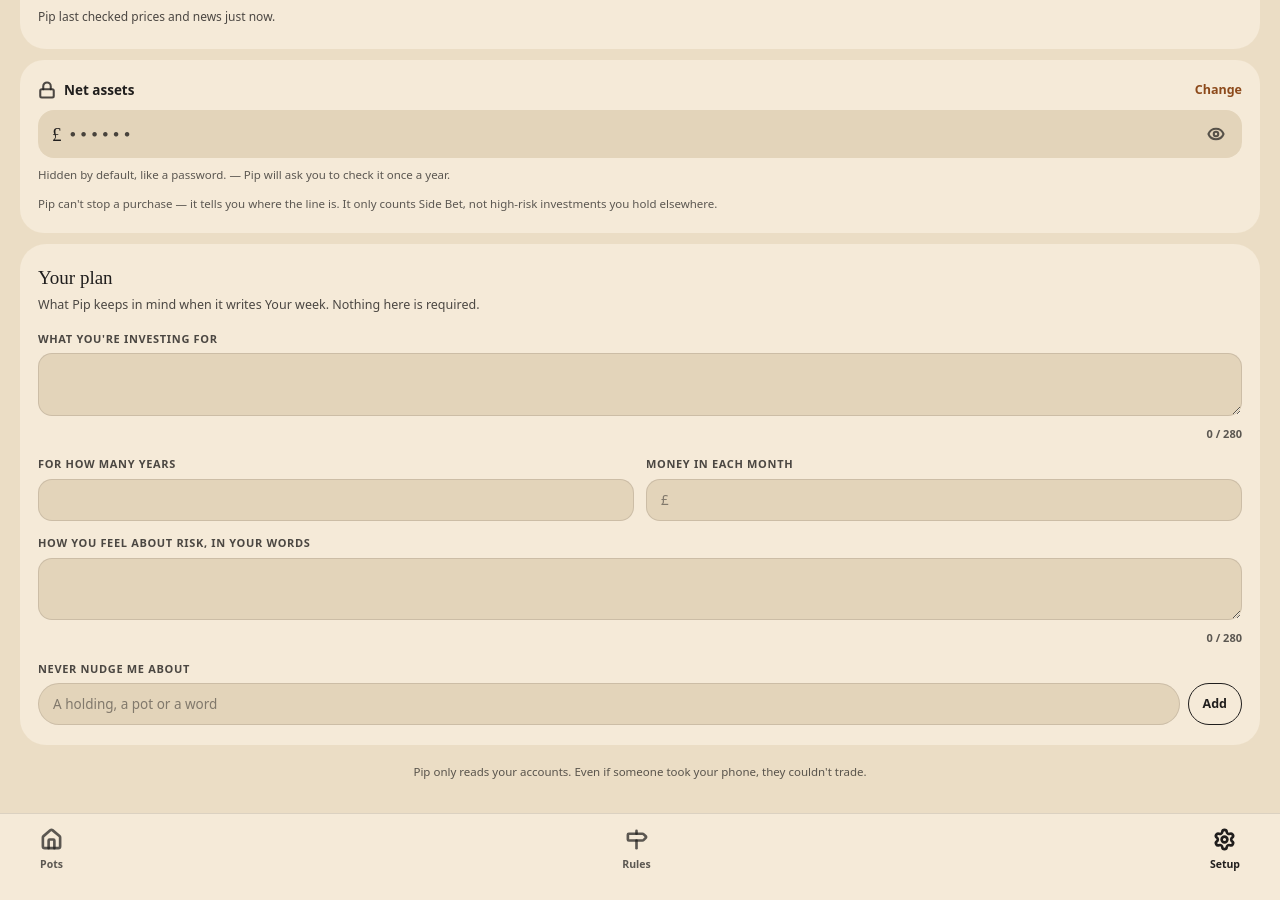
Test: Your plan, on Setup › won't save pounds that aren't a number
(page scrolled)
Type "lots" into the field labelled "Money in each month" at (944, 500), box [646, 479, 1242, 521]
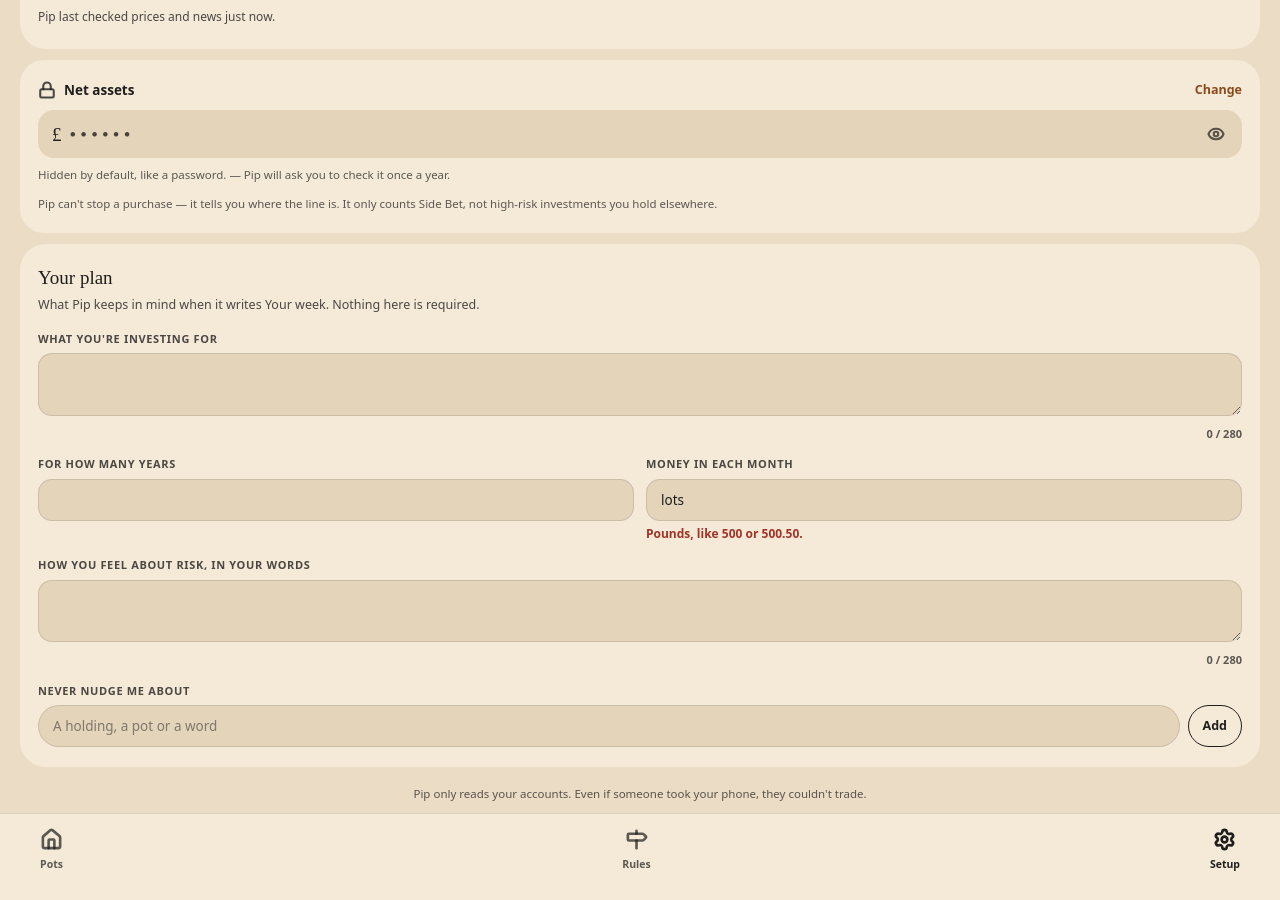
Expected: the text "Pounds, like 500 or 500.50." is shown, [646, 525, 803, 542]
